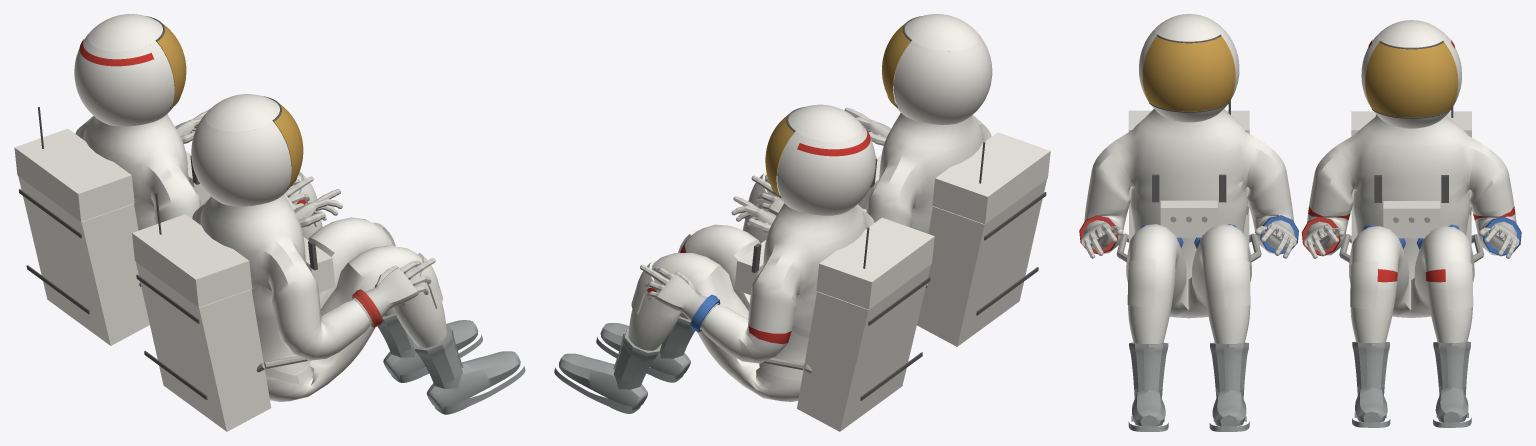
File: riders.lod2.glb
3 renders of one model, left to right at view 1: azimuth 30°, elevation 25°; view 2: azimuth 150°, elevation 25°; view 3: azimuth 270°, elevation 25°, orthographic. The views are drawn at different scales.
Visible parts, largest first — view 1: Duke_Helmet_OuterThermalCover, Young_Helmet_OuterThermalCover, Duke_Arms_Sleeves, Young_Legs_Stowage, Duke_Boots_Sole, Duke_Gloves_PressureGloves, Duke_Helmet_VisorRim, Duke_Helmet_GoldSunVisor, Young_Helmet_GoldSunVisor, Young_Helmet_VisorRim, Young_Gloves_PressureGloves, Young_Helmet_CommanderBand; view 2: Young_Helmet_OuterThermalCover, Duke_Helmet_OuterThermalCover, Young_Legs_Stowage, Young_Legs_Trousers, Duke_Arms_Sleeves, Young_Boots_Sole, Young_Arms_Sleeves, Young_Gloves_PressureGloves, Duke_Gloves_PressureGloves, Young_Helmet_VisorRim, Young_Helmet_GoldSunVisor, Duke_Helmet_GoldSunVisor (+2 smaller); view 3: Duke_Arms_Sleeves, Young_Legs_Stowage, Young_Legs_Trousers, Young_Helmet_GoldSunVisor, Duke_Helmet_GoldSunVisor, Duke_Boots_Sole, Young_Helmet_OuterThermalCover, Duke_Helmet_OuterThermalCover, Young_Boots_Sole, Duke_Gloves_PressureGloves, Young_Gloves_PressureGloves, Young_Arms_Sleeves (+6 smaller).
Part boxes in pixels (x1=…): Duke_Helmet_OuterThermalCover: x1=132, y1=94, x2=335, y2=431; Young_Helmet_OuterThermalCover: x1=14, y1=14, x2=210, y2=345; Duke_Arms_Sleeves: x1=192, y1=194, x2=446, y2=401; Young_Legs_Stowage: x1=75, y1=114, x2=321, y2=230; Duke_Boots_Sole: x1=377, y1=313, x2=525, y2=414; Duke_Gloves_PressureGloves: x1=294, y1=189, x2=435, y2=326; Duke_Helmet_VisorRim: x1=136, y1=96, x2=317, y2=399; Duke_Helmet_GoldSunVisor: x1=274, y1=104, x2=303, y2=187; Young_Helmet_GoldSunVisor: x1=157, y1=23, x2=186, y2=107; Young_Helmet_VisorRim: x1=19, y1=16, x2=199, y2=314; Young_Gloves_PressureGloves: x1=175, y1=109, x2=313, y2=209; Young_Helmet_CommanderBand: x1=79, y1=39, x2=153, y2=66; Young_Helmet_OuterThermalCover: x1=734, y1=104, x2=934, y2=431; Duke_Helmet_OuterThermalCover: x1=857, y1=14, x2=1050, y2=346; Young_Legs_Stowage: x1=631, y1=203, x2=874, y2=378; Young_Legs_Trousers: x1=628, y1=224, x2=801, y2=401; Duke_Arms_Sleeves: x1=743, y1=113, x2=991, y2=243; Young_Boots_Sole: x1=554, y1=316, x2=694, y2=413; Young_Arms_Sleeves: x1=701, y1=304, x2=793, y2=363; Young_Gloves_PressureGloves: x1=640, y1=196, x2=776, y2=329; Duke_Gloves_PressureGloves: x1=751, y1=107, x2=890, y2=215; Young_Helmet_VisorRim: x1=751, y1=106, x2=930, y2=400; Young_Helmet_GoldSunVisor: x1=765, y1=114, x2=794, y2=196; Duke_Helmet_GoldSunVisor: x1=882, y1=24, x2=917, y2=105; Duke_Arms_Sleeves: x1=1084, y1=108, x2=1293, y2=343; Young_Legs_Stowage: x1=1310, y1=114, x2=1513, y2=309; Young_Legs_Trousers: x1=1349, y1=226, x2=1474, y2=342; Young_Helmet_GoldSunVisor: x1=1365, y1=42, x2=1458, y2=117; Duke_Helmet_GoldSunVisor: x1=1142, y1=36, x2=1235, y2=111; Duke_Boots_Sole: x1=1128, y1=342, x2=1249, y2=431; Young_Helmet_OuterThermalCover: x1=1351, y1=20, x2=1471, y2=246; Duke_Helmet_OuterThermalCover: x1=1128, y1=14, x2=1249, y2=245; Young_Boots_Sole: x1=1352, y1=341, x2=1471, y2=427; Duke_Gloves_PressureGloves: x1=1081, y1=220, x2=1296, y2=258; Young_Gloves_PressureGloves: x1=1304, y1=221, x2=1519, y2=258; Young_Arms_Sleeves: x1=1307, y1=199, x2=1516, y2=255.
Bounding box in the file's own units: 1.17 × 1.13 × 1.41.
